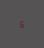six: (19, 19, 22, 28)
